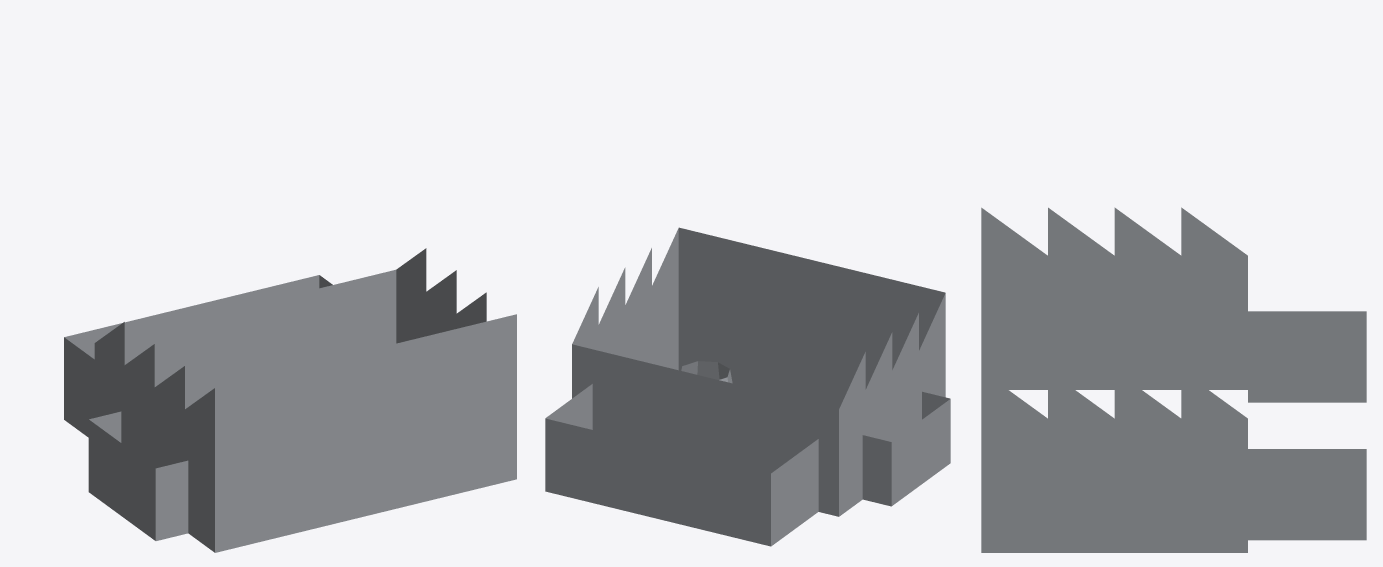
File: Bld_I_med_L3_C.fbx
3 views of the same model, side by side, from view 1: azimuth 30°, elevation 25°; view 2: azimuth 150°, elevation 25°; view 3: azimuth 270°, elevation 25° (orthographic). The views are drawn at different scales.
Parts seen in each view (by area): view 1: Bld_I_med_L3_C_LOD0; view 2: Bld_I_med_L3_C_LOD0; view 3: Bld_I_med_L3_C_LOD0.
Part boxes in pixels (left/top/right/bottom): Bld_I_med_L3_C_LOD0: left=64, top=248, right=516, bottom=552; Bld_I_med_L3_C_LOD0: left=545, top=227, right=950, bottom=546; Bld_I_med_L3_C_LOD0: left=981, top=207, right=1366, bottom=552.
Size of what is drawn, in the model's own units: 1497 by 1825 by 1314.
Materials: 1 (1 with a texture image).
